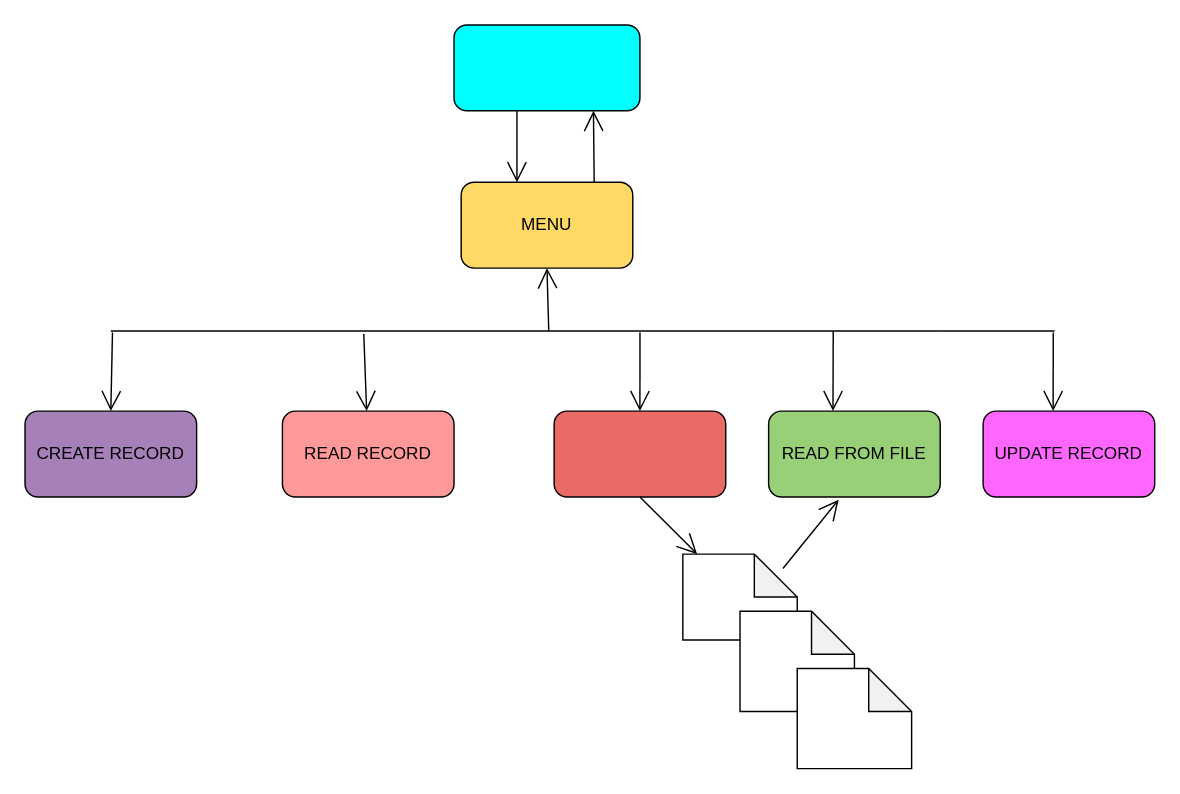
Some shapes in this 1180 by 794 pixel diagram are drawn without their labels. The centre of each missing label's shape, as x and y in pixels:
SAVE TO FILE: point (639, 453)
TERMINAL: point (546, 67)
